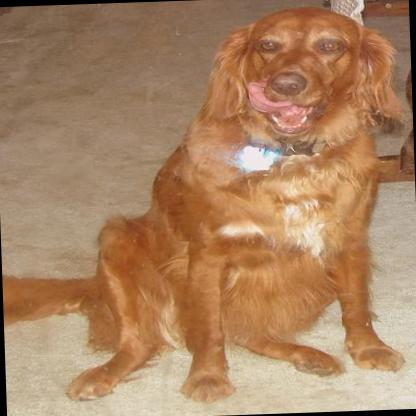Irish_setter: (0, 2, 407, 408)
